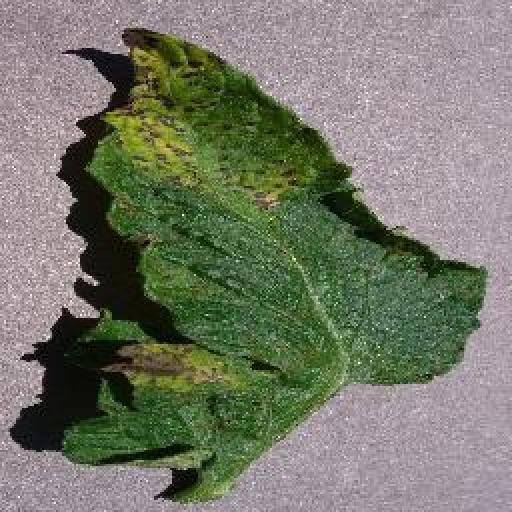Septoria: (67, 27, 488, 472)
